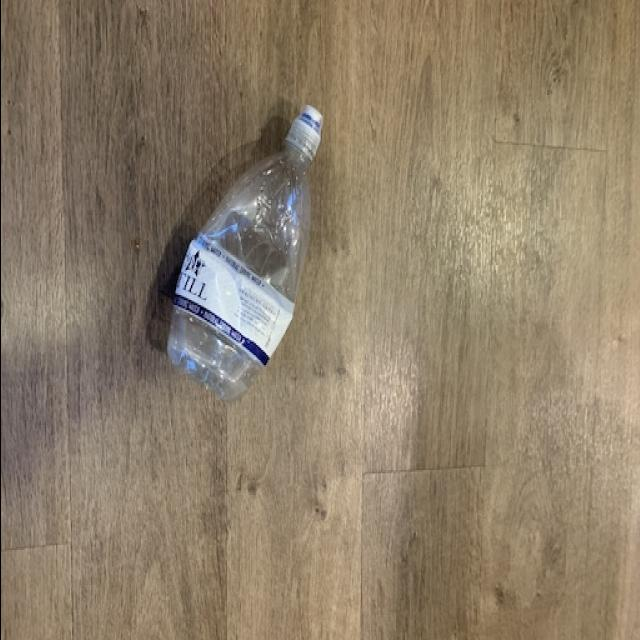PET: (165, 105, 326, 407)
